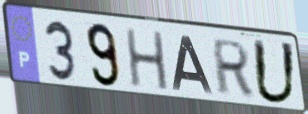3: (43, 19, 77, 83)
9: (84, 21, 123, 90)
A: (170, 34, 216, 97)
H: (123, 27, 171, 93)
R: (212, 38, 255, 98)
U: (250, 36, 299, 107)
